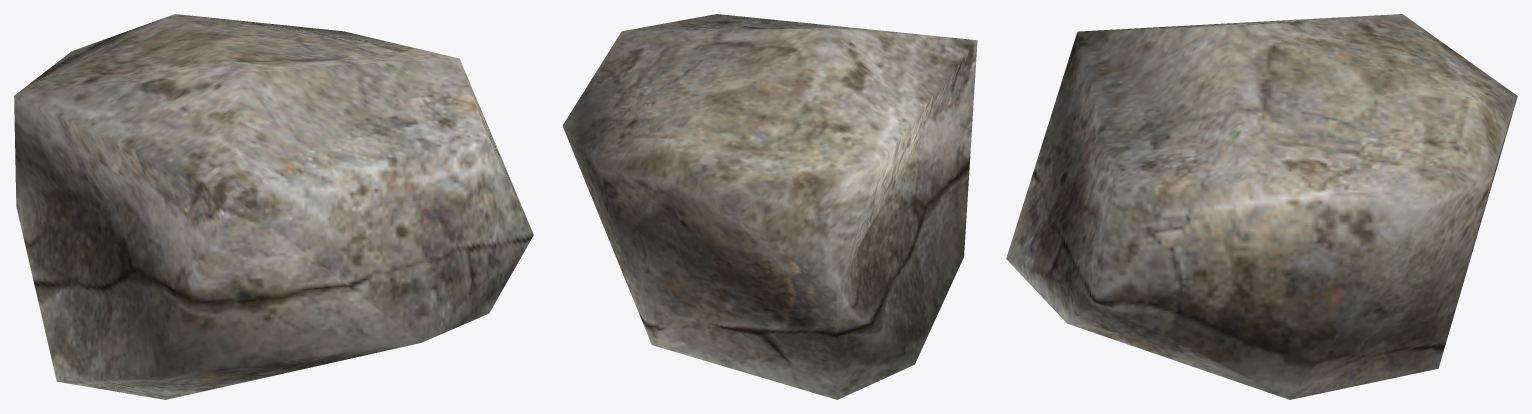
The model's file is Rock1A_LOD2.fbx.
3 renders of one model, left to right at view 1: azimuth 30°, elevation 25°; view 2: azimuth 150°, elevation 25°; view 3: azimuth 270°, elevation 25°, orthographic. The views are drawn at different scales.
Visible parts, largest first — view 1: Rock1_600_tris:polySurface16; view 2: Rock1_600_tris:polySurface16; view 3: Rock1_600_tris:polySurface16.
Part boxes in pixels (x1,y1,x2,y2): Rock1_600_tris:polySurface16: [14, 14, 533, 399]; Rock1_600_tris:polySurface16: [562, 14, 977, 399]; Rock1_600_tris:polySurface16: [1006, 14, 1517, 399].
Size of the model in its own units: 1.35 by 1.19 by 1.66.
Materials: 1 (1 with a texture image).
